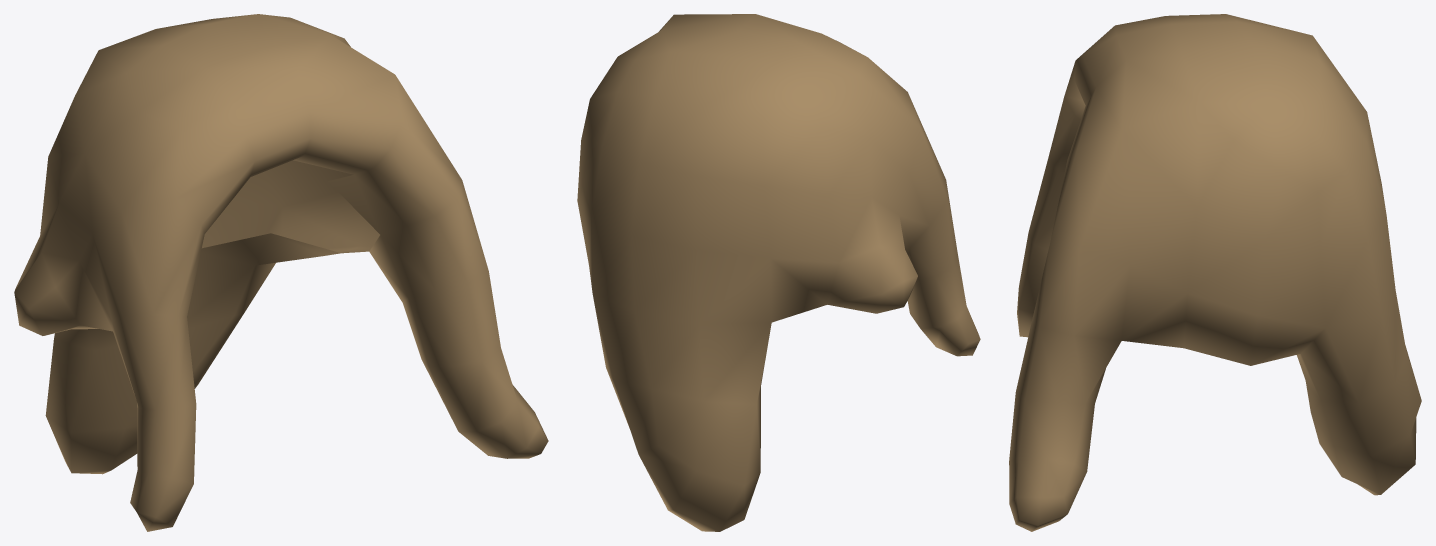
The model's file is Charakter_Nurse_hair.FBX.
The picture shows the model from 3 angles, left to right: view 1: azimuth 30°, elevation 25°; view 2: azimuth 150°, elevation 25°; view 3: azimuth 270°, elevation 25°; orthographic projection. The views are drawn at different scales.
Visible parts, largest first — view 1: Charakter_Nurse_hair; view 2: Charakter_Nurse_hair; view 3: Charakter_Nurse_hair.
Part boxes in pixels (<box>): Charakter_Nurse_hair: <box>14,14,548,531</box>; Charakter_Nurse_hair: <box>577,14,980,531</box>; Charakter_Nurse_hair: <box>1009,14,1421,531</box>.
Bounding box in the file's own units: 197 × 170 × 215.
